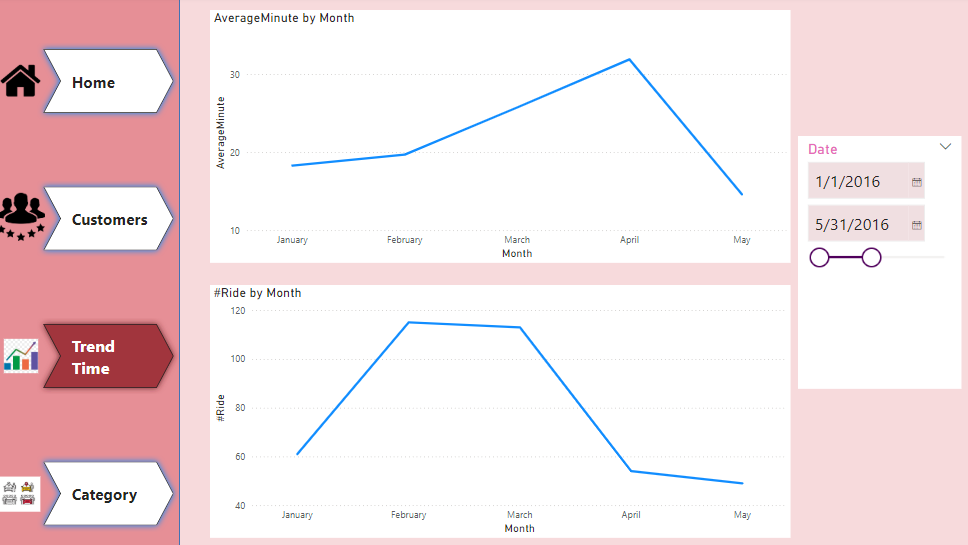

Layout of this report page (visuals, bound fields, positions):
{"tool":"powerbi","page":{"name":"Trend Time","canvas":[1280,720],"ordinal":2},"visuals":[{"type":"lineChart","fields":{"Category":["UberDataset.Date.Variation.Date Hierarchy.Month","UberDataset.Date.Variation.Date Hierarchy.Day"],"Y":["Measure.#Ride"]},"box":[284.3,377,760.1,331.4],"z":0},{"type":"lineChart","fields":{"Category":["UberDataset.Date.Variation.Date Hierarchy.Month","UberDataset.Date.Variation.Date Hierarchy.Day"],"Y":["Measure.AverageMinute"]},"box":[284.3,16.7,760.1,331.4],"z":1000},{"type":"slicer","fields":{"Values":["UberDataset.Date"]},"box":[1053.5,182.4,214.3,331.4],"z":2000},{"type":"shape","title":"Menu BG","box":[0,0,244.8,720],"z":3000},{"type":"pageNavigator","title":"Menu Buttons","box":[57.6,54.7,187.2,650],"z":4000},{"type":"image","box":[0,79,73,62.3],"z":5000},{"type":"image","box":[0,250.8,73,73],"z":6000},{"type":"image","box":[9.1,442.4,54.7,54.7],"z":7000},{"type":"image","box":[0,621.8,66.9,57.8],"z":8000}]}

Visuals, with their boxes in screenshot pixels (x1, y1, x2, y2), scaled from the page's 1280x720 canvas onto the 968x545 screenshot:
lineChart - UberDataset.Date.Variation.Date Hierarchy.Month x UberDataset.Date.Variation.Date Hierarchy.Day: bbox=(215, 285, 790, 536)
lineChart - UberDataset.Date.Variation.Date Hierarchy.Month x UberDataset.Date.Variation.Date Hierarchy.Day: bbox=(215, 13, 790, 263)
slicer - UberDataset.Date: bbox=(797, 138, 959, 389)
"Menu BG" shape: bbox=(0, 0, 185, 544)
"Menu Buttons" pageNavigator: bbox=(44, 41, 185, 533)
image: bbox=(0, 60, 55, 107)
image: bbox=(0, 190, 55, 245)
image: bbox=(7, 335, 48, 376)
image: bbox=(0, 471, 51, 514)
